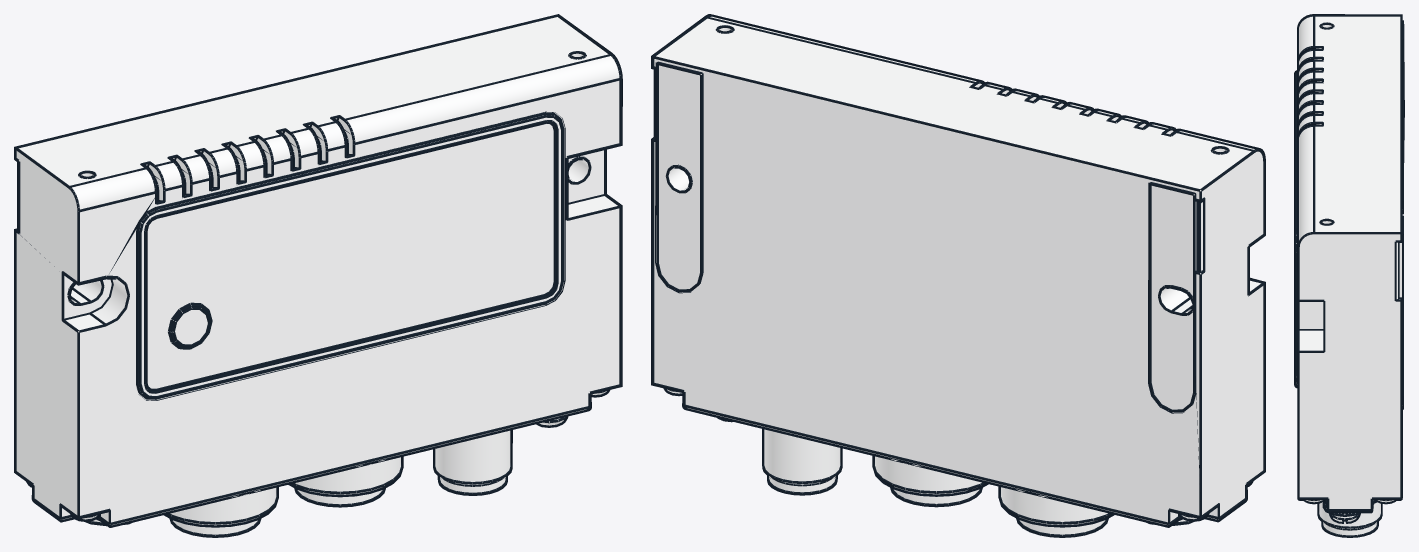
The model's file is EXW1-RLAPA8C.outline.glb.
3 views of the same model, side by side, from view 1: azimuth 30°, elevation 25°; view 2: azimuth 150°, elevation 25°; view 3: azimuth 270°, elevation 25° (orthographic). The views are drawn at different scales.
Parts seen in each view (by area): view 1: EXW1-RLAPA7C_B; view 2: EXW1-RLAPA7C_B; view 3: EXW1-RLAPA7C_B.
Part boxes in pixels (x1=…): EXW1-RLAPA7C_B: x1=14, y1=14, x2=622, y2=537; EXW1-RLAPA7C_B: x1=651, y1=14, x2=1265, y2=537; EXW1-RLAPA7C_B: x1=1294, y1=14, x2=1404, y2=537.
Size of the model in its own units: 101 by 73.35 by 21.59.
